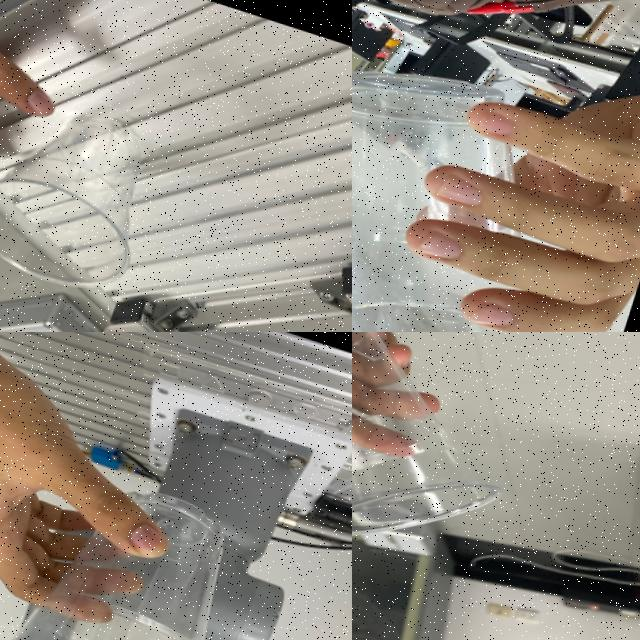glass: (352, 22, 640, 332), (0, 440, 285, 640), (352, 332, 564, 589), (0, 70, 183, 302)
